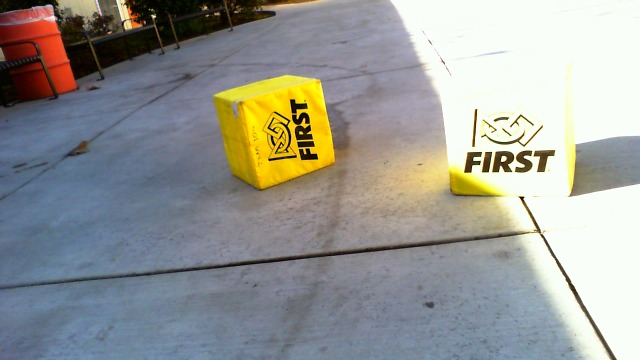cube: (443, 63, 577, 195), (210, 69, 338, 195)
